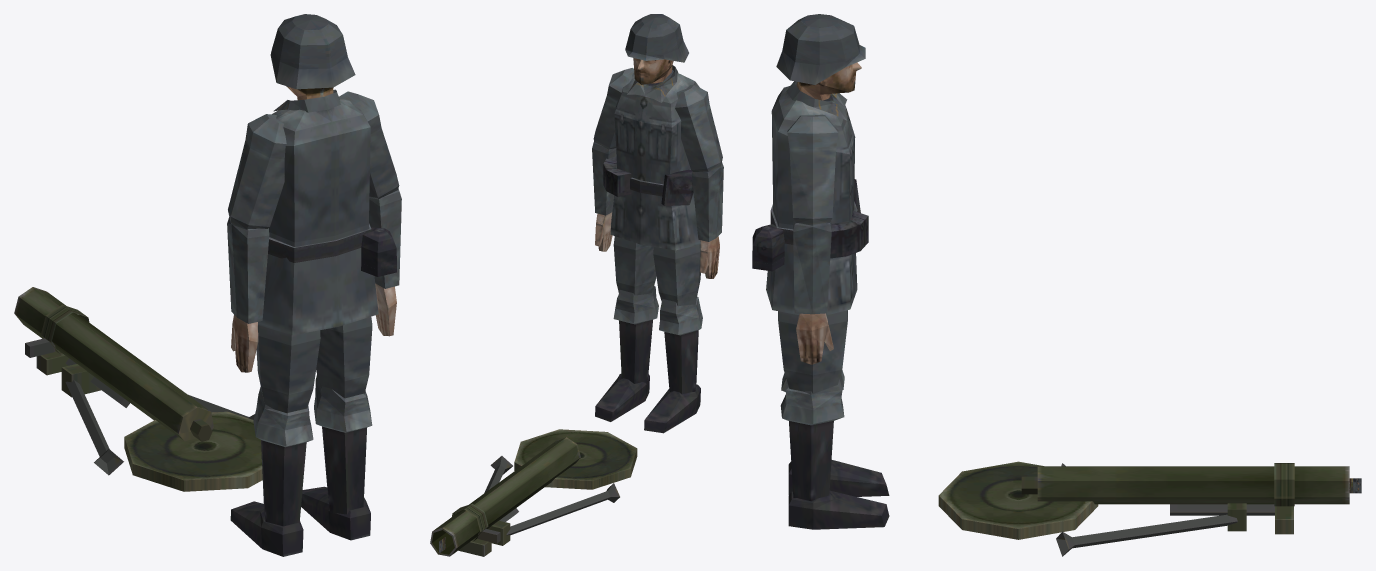
The model's file is vc_mortar.glb.
3 views of the same model, side by side, from view 1: azimuth 30°, elevation 25°; view 2: azimuth 150°, elevation 25°; view 3: azimuth 270°, elevation 25° (orthographic). The views are drawn at different scales.
Visible parts, largest first — view 1: torso, mortartube, mortarbase, rleg, head, lleg, luparm, lloarm, lthigh, rthigh, mortarstand, rloarm (+3 smaller); view 2: torso, mortartube, mortarbase, head, lleg, rleg, luparm, lloarm, lthigh, mortarstand, rthigh, rloarm (+3 smaller); view 3: mortartube, torso, mortarbase, head, rleg, rloarm, ruparm, mortarstand, rthigh, rfoot, lfoot.
Part boxes in pixels (bbox=[...]): torso: bbox=[258, 89, 396, 335]; mortartube: bbox=[14, 287, 213, 441]; mortarbase: bbox=[124, 411, 262, 491]; rleg: bbox=[314, 374, 372, 514]; head: bbox=[270, 14, 355, 100]; lleg: bbox=[253, 387, 313, 526]; luparm: bbox=[228, 114, 286, 229]; lloarm: bbox=[227, 217, 269, 372]; lthigh: bbox=[256, 325, 320, 413]; rthigh: bbox=[316, 316, 372, 398]; mortarstand: bbox=[36, 351, 254, 475]; rloarm: bbox=[369, 188, 401, 336]; torso: bbox=[603, 65, 700, 250]; mortartube: bbox=[430, 437, 580, 556]; mortarbase: bbox=[514, 429, 637, 489]; head: bbox=[625, 14, 688, 84]; lleg: bbox=[659, 296, 702, 394]; rleg: bbox=[613, 286, 658, 384]; luparm: bbox=[675, 85, 722, 171]; lloarm: bbox=[692, 162, 723, 278]; lthigh: bbox=[653, 244, 700, 306]; mortarstand: bbox=[458, 456, 619, 556]; rthigh: bbox=[613, 236, 656, 295]; rloarm: bbox=[592, 141, 616, 251]; mortartube: bbox=[1021, 463, 1349, 506]; torso: bbox=[752, 81, 868, 315]; mortarbase: bbox=[938, 461, 1098, 539]; head: bbox=[776, 14, 865, 100]; rleg: bbox=[780, 375, 844, 501]; rloarm: bbox=[793, 220, 833, 364]; ruparm: bbox=[787, 114, 838, 225]; mortarstand: bbox=[1056, 463, 1293, 556]; rthigh: bbox=[778, 310, 847, 393]; rfoot: bbox=[788, 490, 889, 529]; lfoot: bbox=[788, 460, 889, 496].
Bounding box in the file's own units: 0.6103 × 1.8 × 1.97.
Materials: 1 (1 with a texture image).
